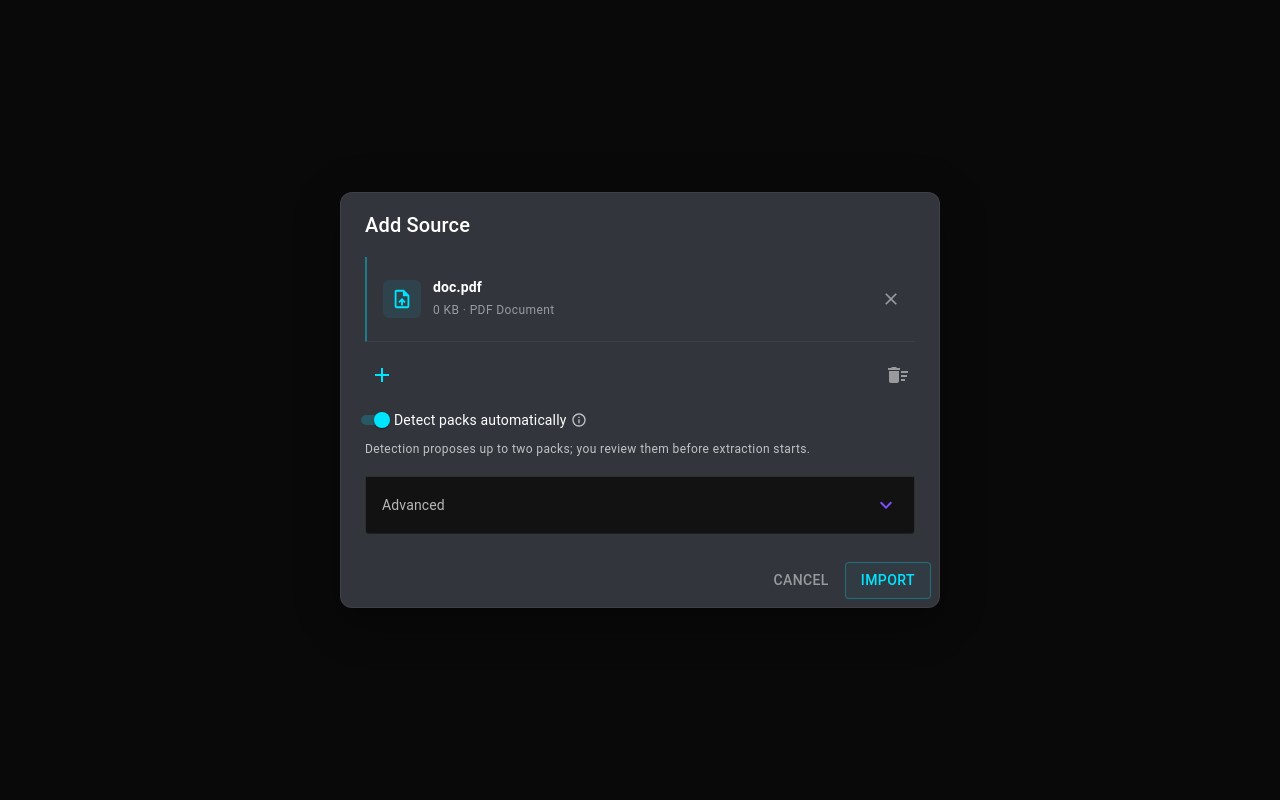
Test: <UploadDialog /> pack selector placement › explains packs with the registered packs as examples, reviewed before extraction
Hover over the element named "What are packs?" at (578, 420), box [570,412,586,428]
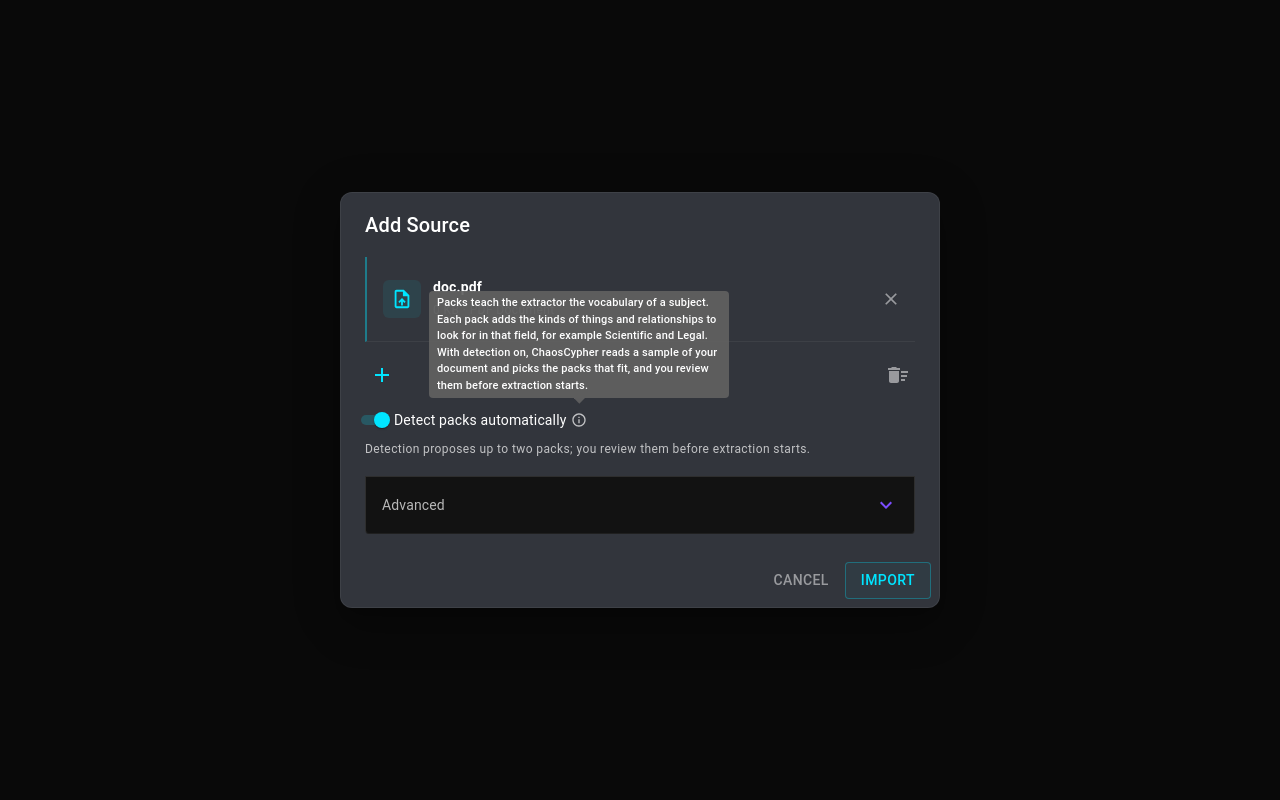
Expected: the tooltip shows "for example Scientific and Legal.", [437,296,717,392]
Expected: the tooltip shows "you review them before extraction starts.", [437,296,717,392]
